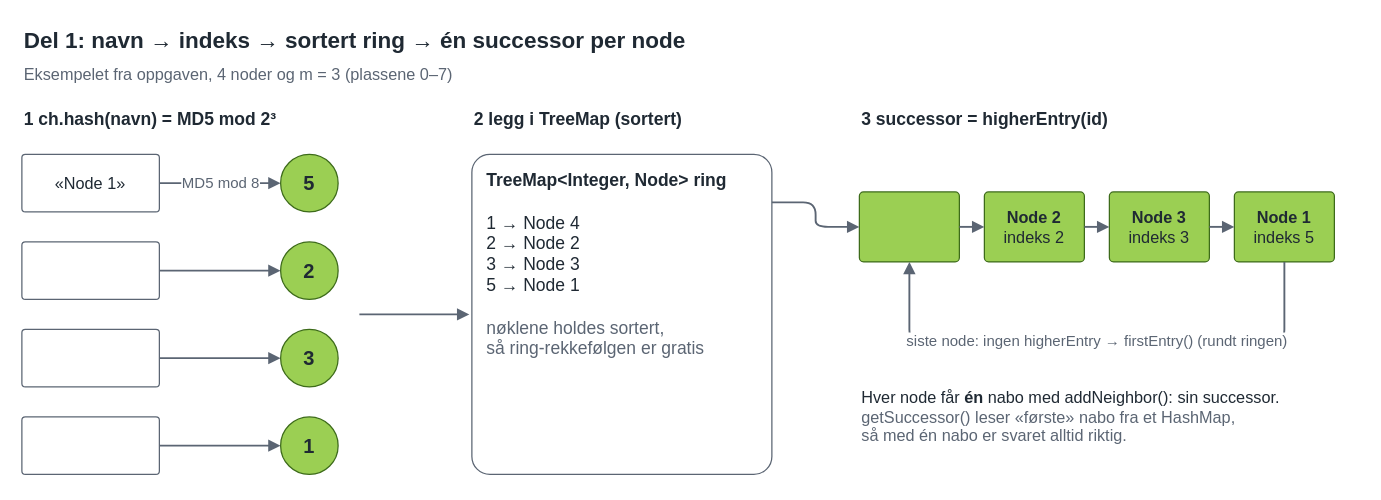
This 1381x500 diagram has some shape labels left out. Each missing label, with the centre of its shape:
Node 4 indeks 1: the point at 908,226
«Node 2»: the point at 90,270
«Node 3»: the point at 90,357
«Node 4»: the point at 90,445
